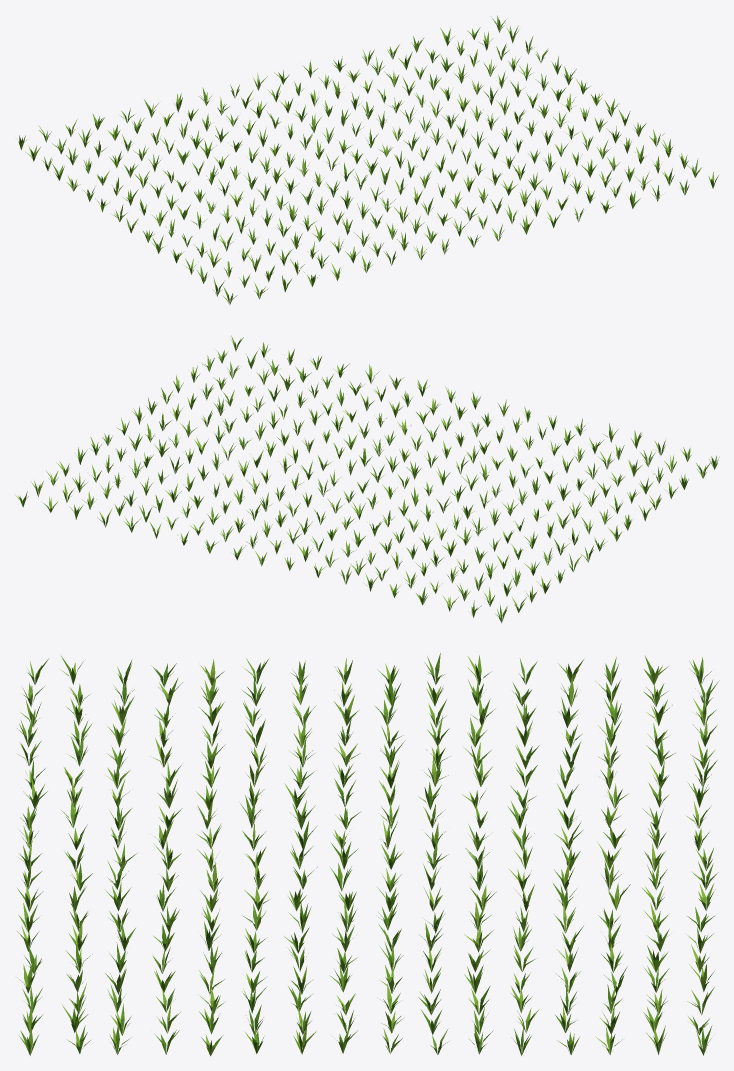
File: young-rice-rows.obj
3 views of the same model, one above another, from view 1: azimuth 30°, elevation 25°; view 2: azimuth 150°, elevation 25°; view 3: azimuth 270°, elevation 25° (orthographic). The views are drawn at different scales.
Bounding box in the file's own units: 19.1 × 0.6498 × 14.84.
